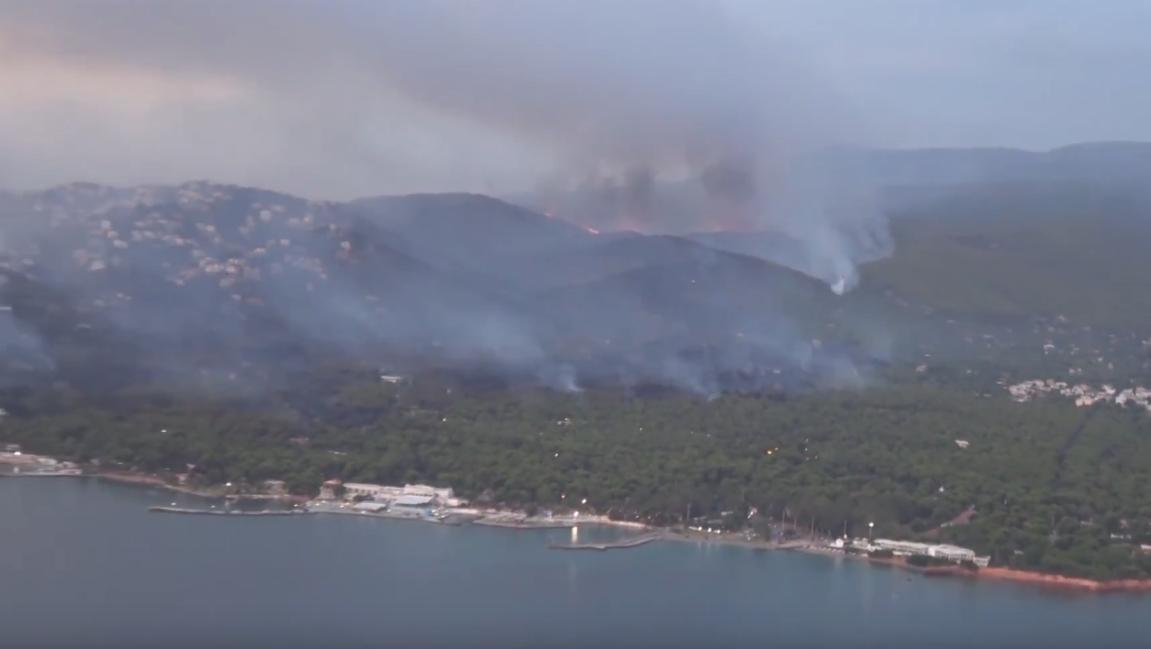smoke: (488, 5, 904, 409)
